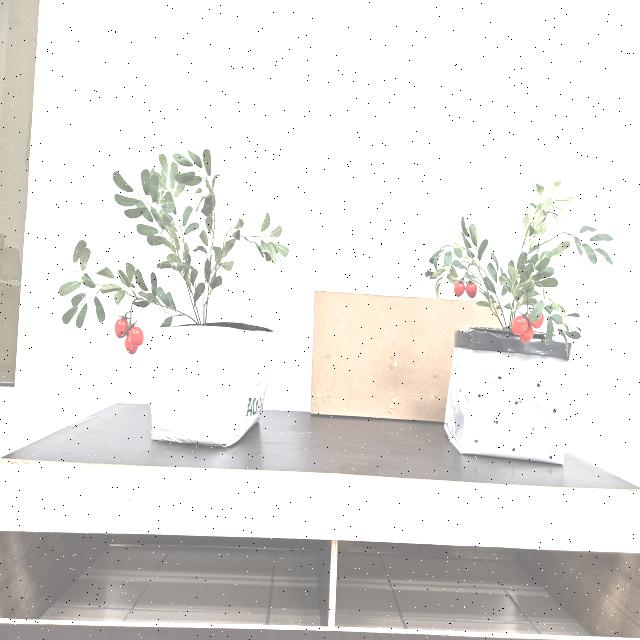Soilbag: (443, 329, 571, 466), (148, 323, 275, 450)
Tomato: (508, 309, 548, 345), (115, 319, 145, 356), (453, 276, 477, 298)
plant: (58, 149, 289, 355), (424, 177, 613, 345)
